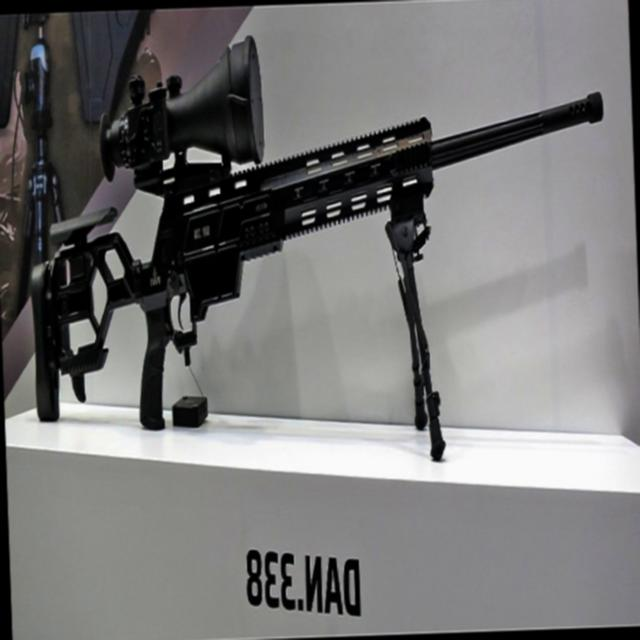rifle: (12, 41, 624, 470)
